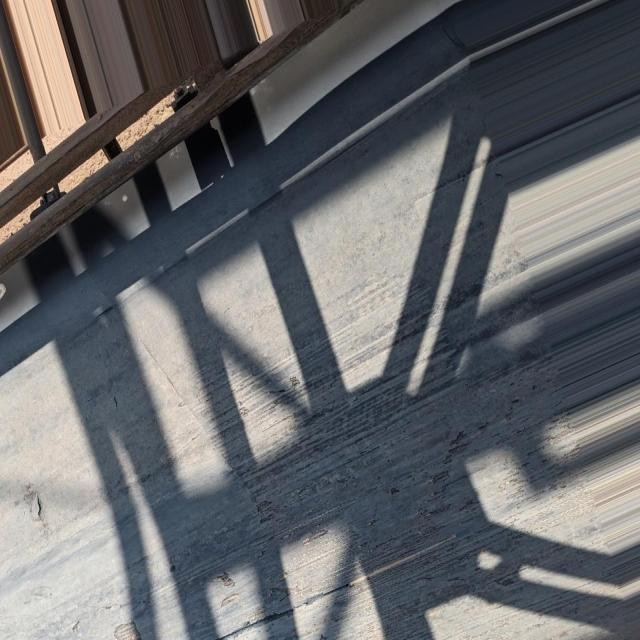Impact Damage: (106, 620, 146, 640), (220, 592, 241, 608)
Tear: (209, 545, 437, 640), (30, 491, 50, 523), (108, 392, 121, 409)
